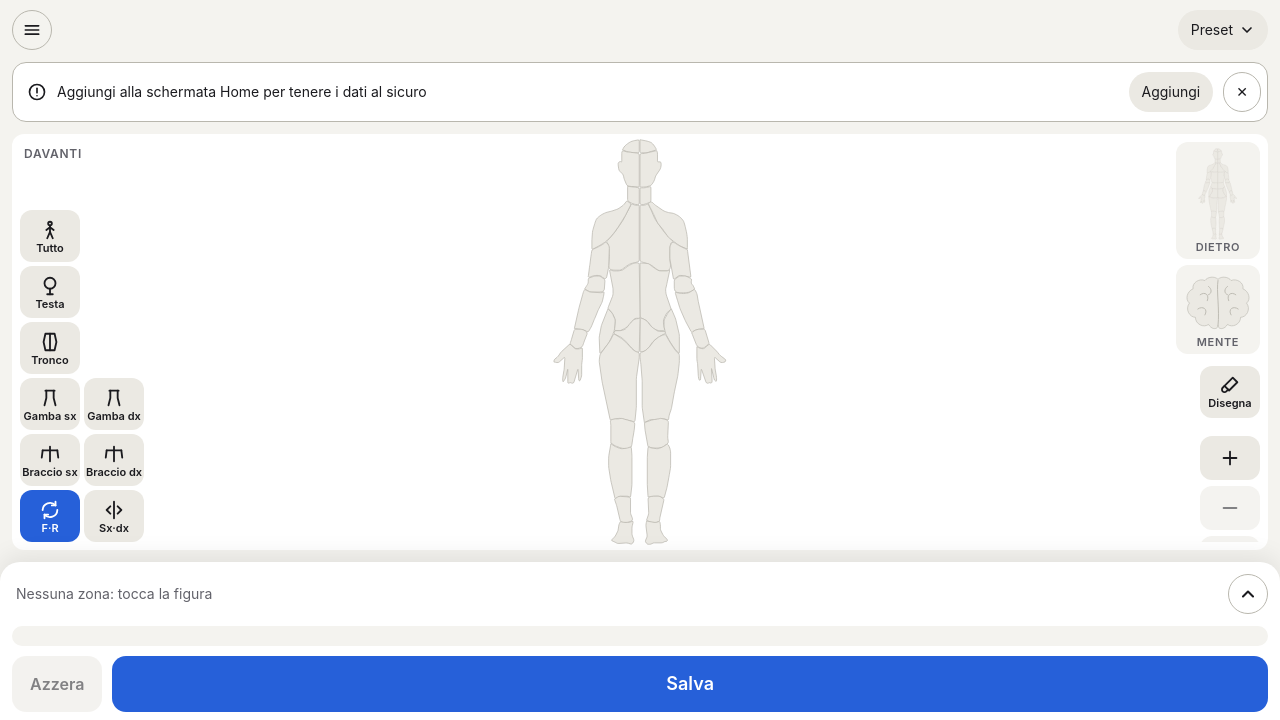
Test case: Navigation (#37) › drops down the other screens, and closes on Escape or a tap elsewhere
Click the button named "Menu" at (32, 30), box x1=12 y1=10 x2=52 y2=50
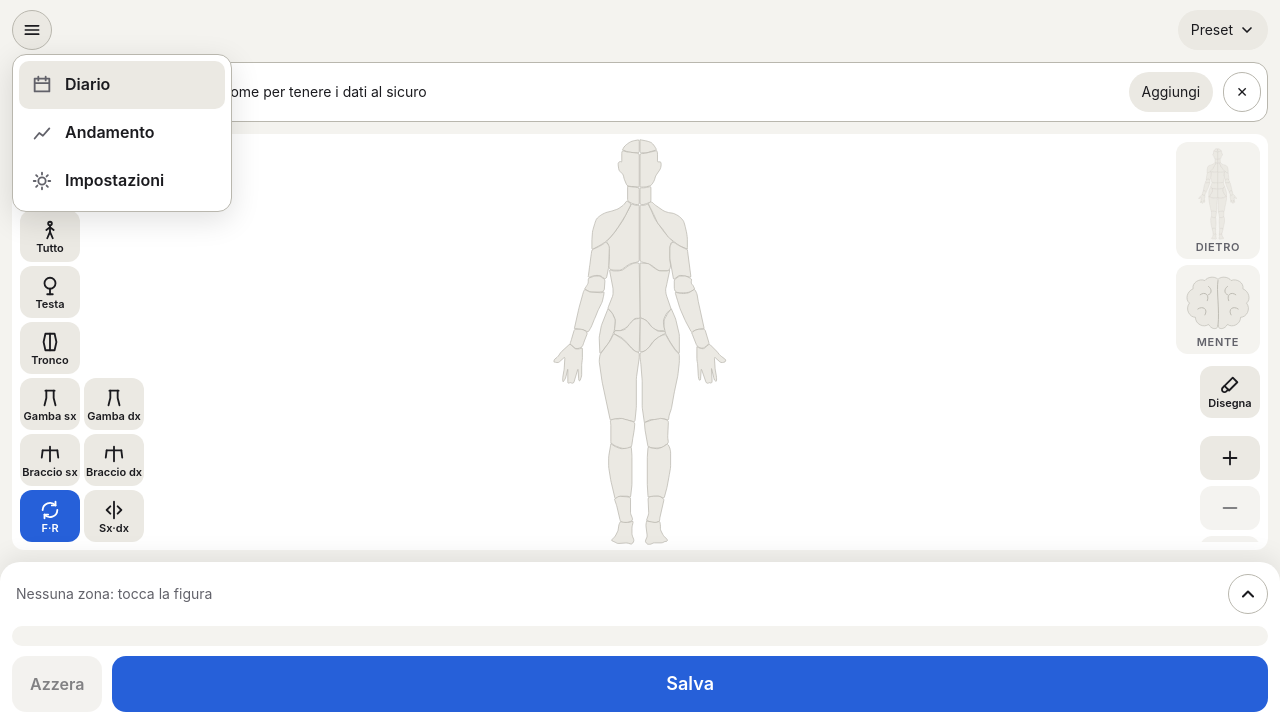
Result: the menu items read "Diario", "Andamento", "Impostazioni", in this order
# A tap inside the menu, or another key, leaves it open.
Press the mouse on the menu item "Diario" at (122, 85), box x1=19 y1=61 x2=225 y2=109
Press ArrowDown in the menu, box x1=12 y1=54 x2=232 y2=212
Press Escape in the menu, box x1=12 y1=54 x2=232 y2=212
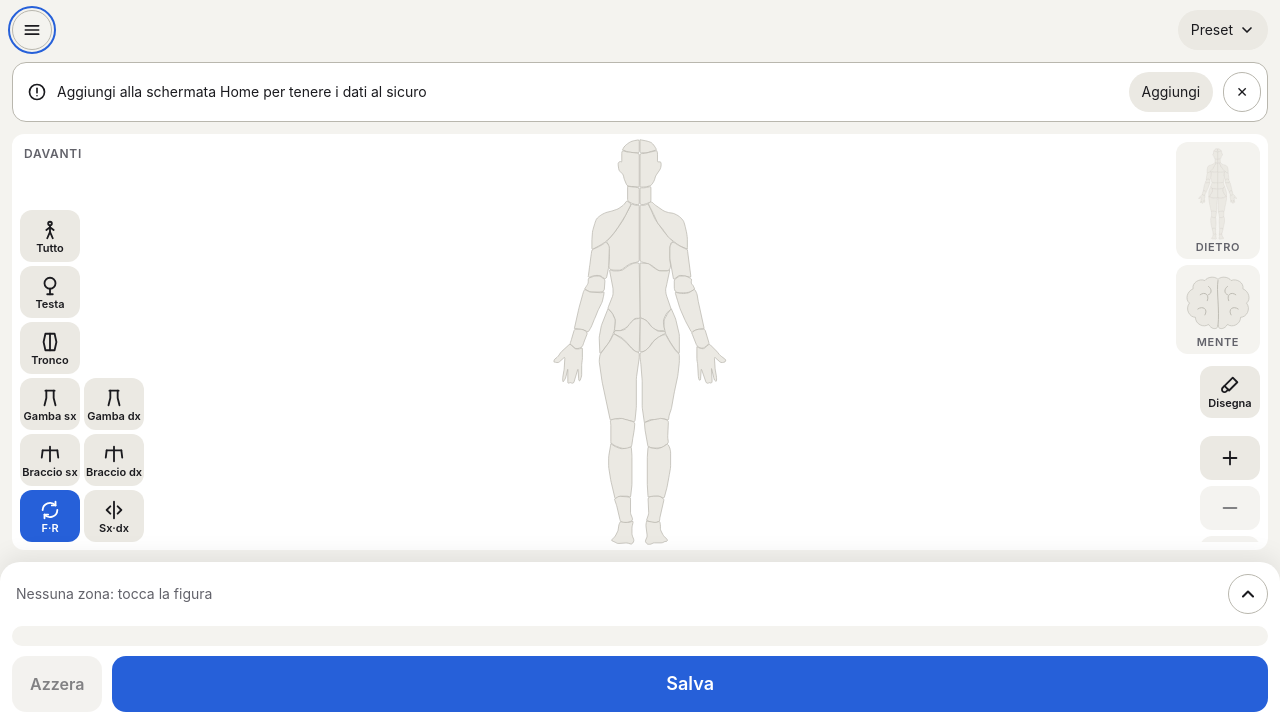
Result: the menu is gone
Result: the button named "Menu" is collapsed
Click the button named "Menu" at (32, 30), box x1=12 y1=10 x2=52 y2=50
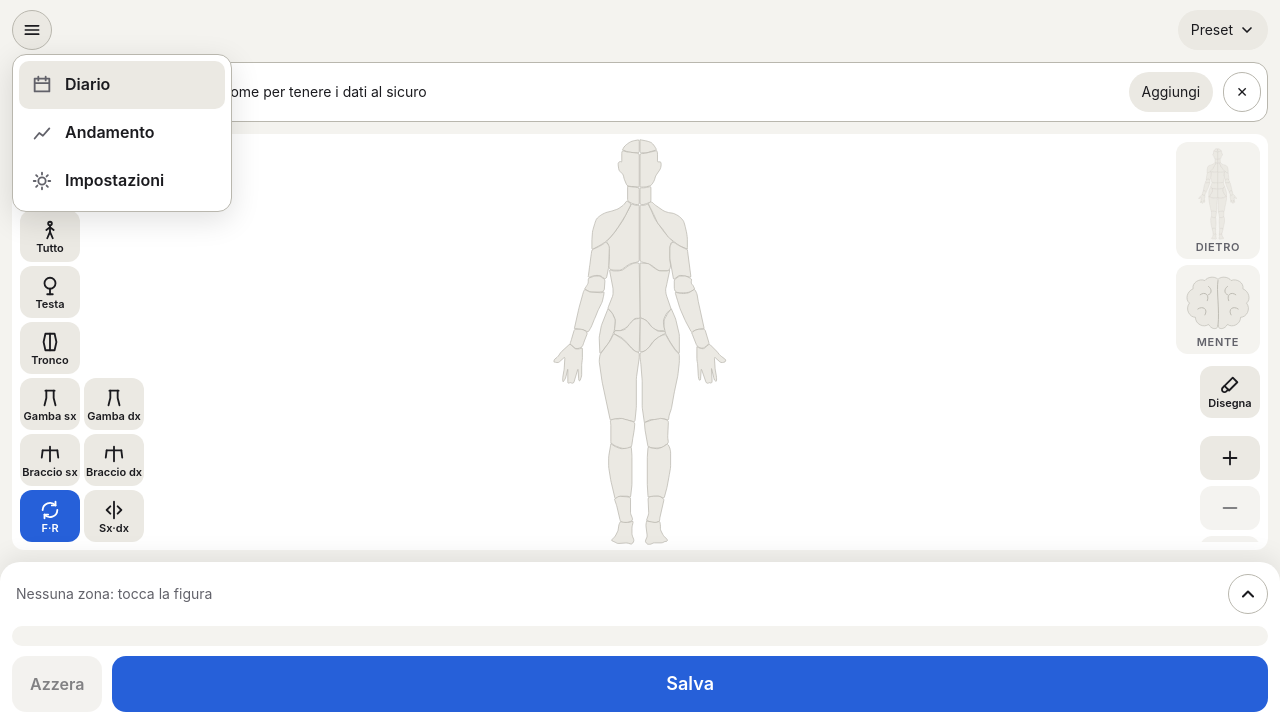
Press the mouse on the element that starts with "Diario" at (640, 360), box x1=0 y1=0 x2=1279 y2=719
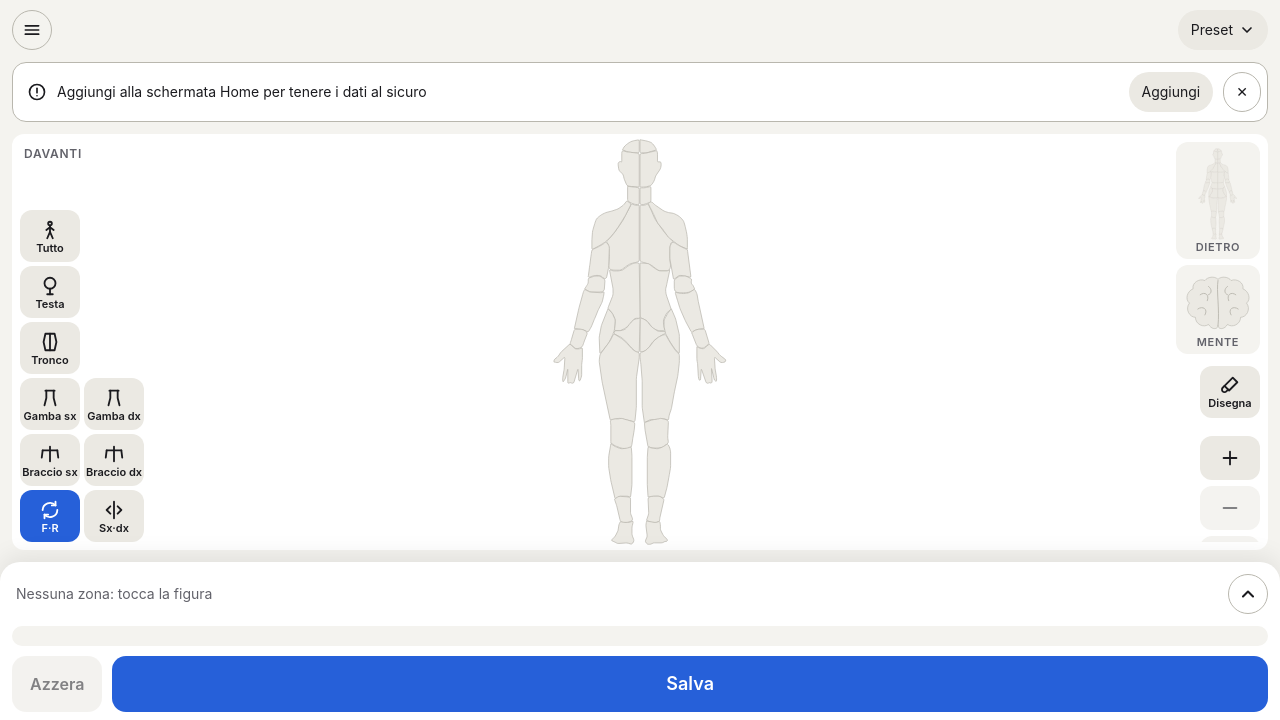
Result: the menu is gone
# The menu button toggles it too.
Click the button named "Menu" at (32, 30), box x1=12 y1=10 x2=52 y2=50
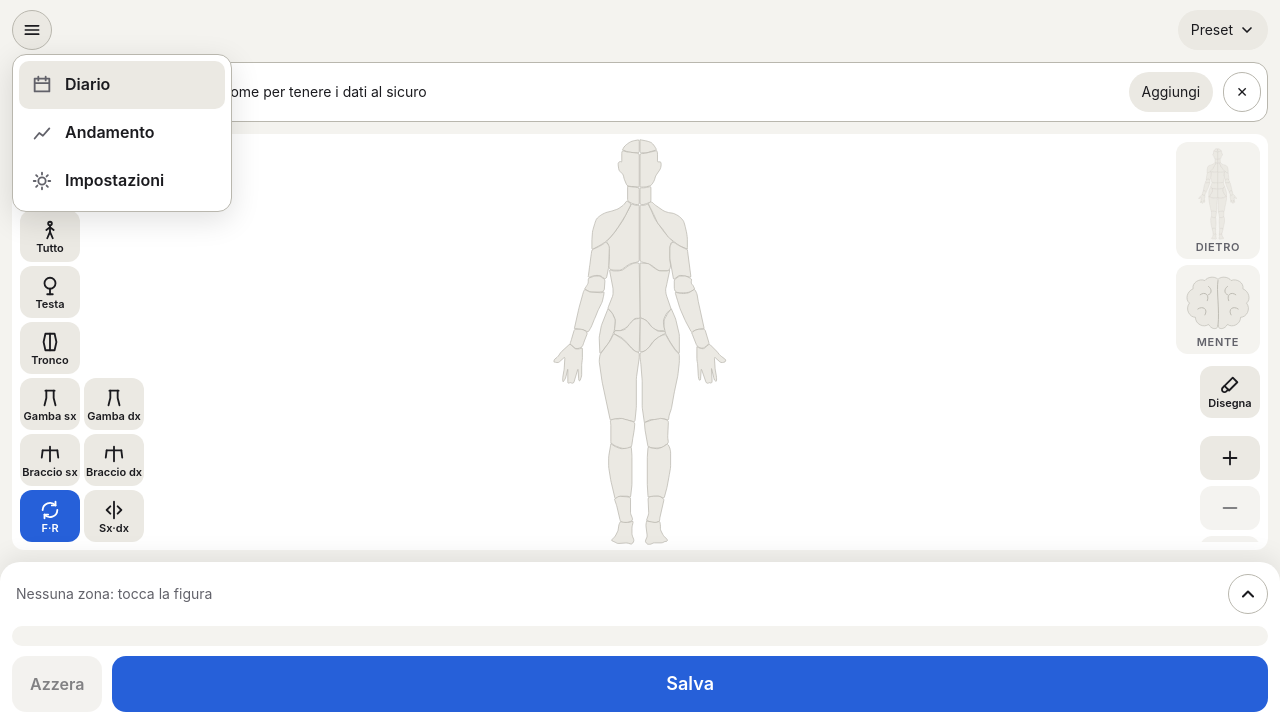
Click the button named "Menu" at (32, 30), box x1=12 y1=10 x2=52 y2=50
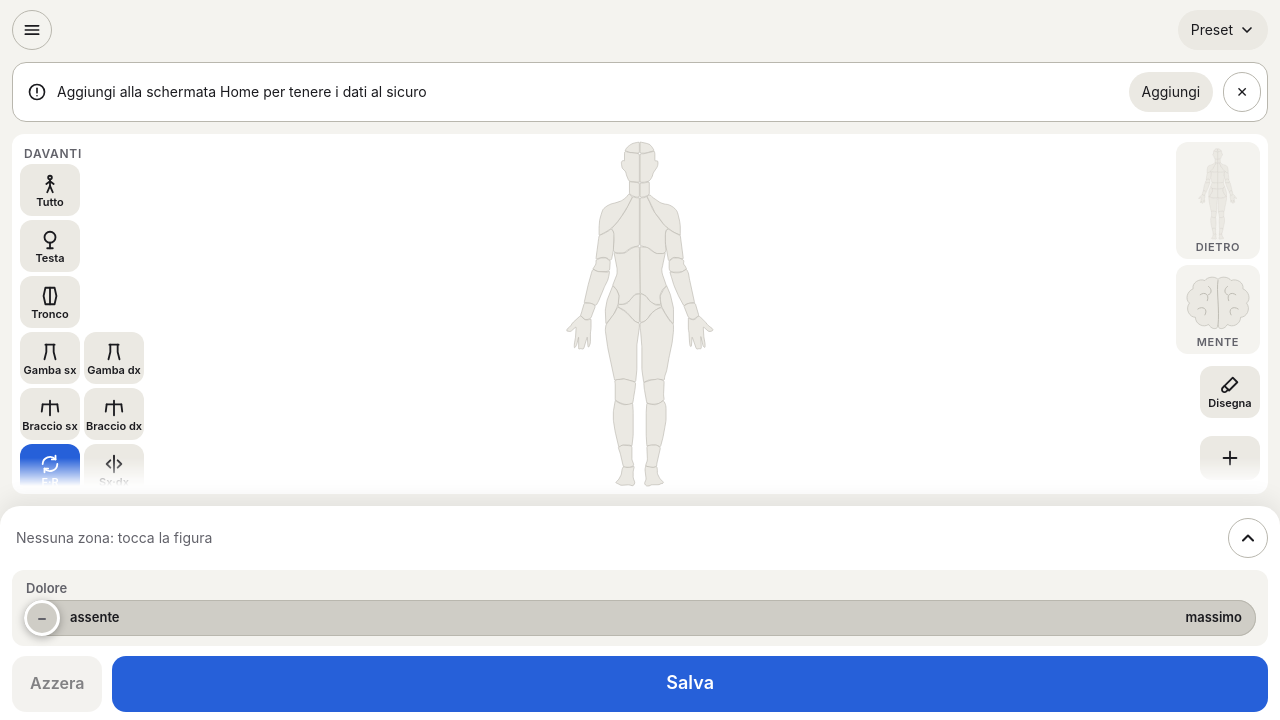
Result: the menu is gone
